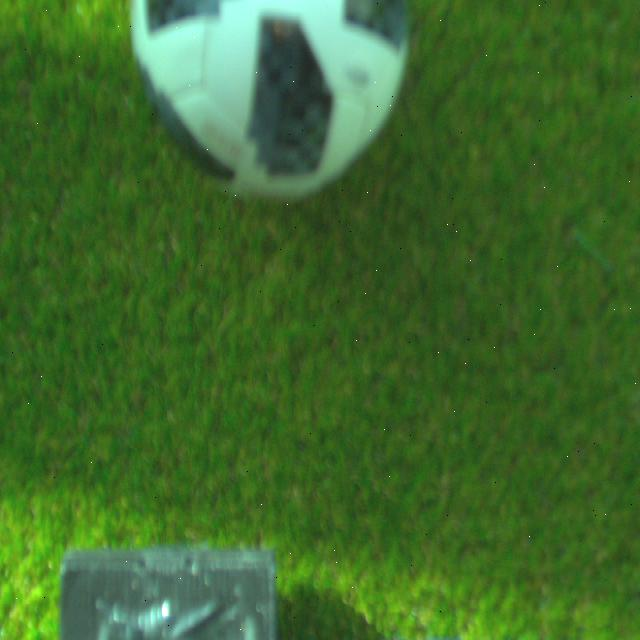ball: (130, 0, 411, 201)
